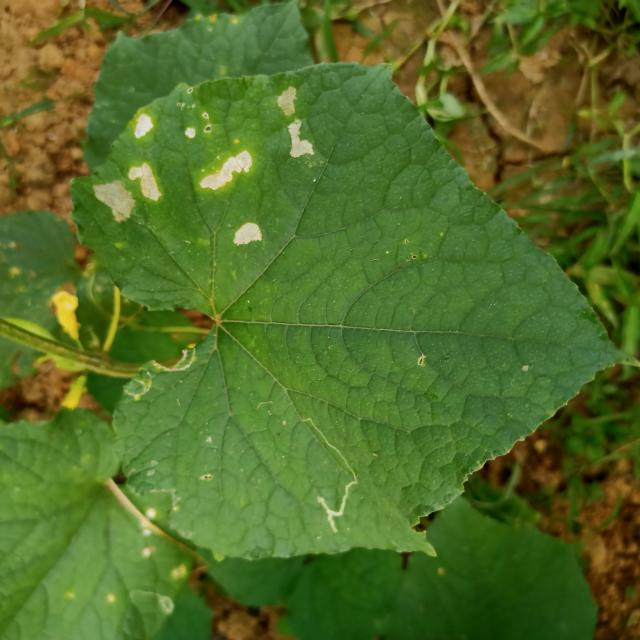disease_cucumber: (89, 106, 166, 225), (179, 112, 256, 197), (274, 82, 318, 163), (229, 211, 270, 253)
